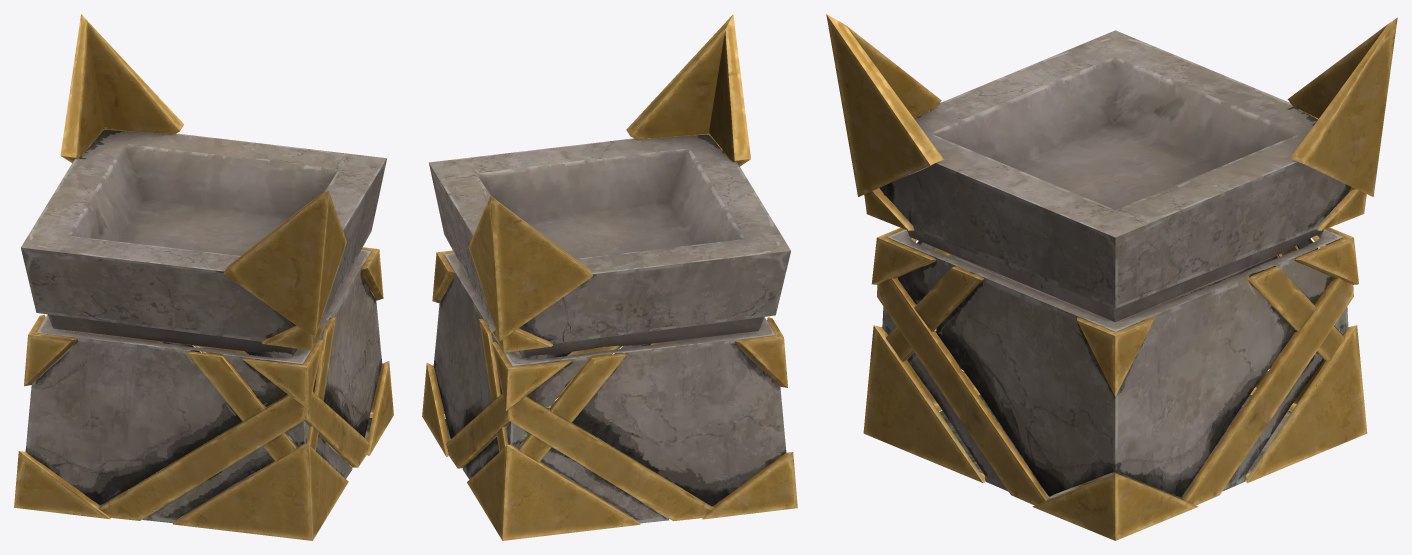
The picture shows the model from 3 angles, left to right: view 1: azimuth 30°, elevation 25°; view 2: azimuth 150°, elevation 25°; view 3: azimuth 270°, elevation 25°; orthographic projection. The views are drawn at different scales.
Parts seen in each view (by area): view 1: SM_Light_Source_01_LOD0; view 2: SM_Light_Source_01_LOD0; view 3: SM_Light_Source_01_LOD0.
Part boxes in pixels (x1,y1,x2,y2): SM_Light_Source_01_LOD0: [14, 14, 393, 540]; SM_Light_Source_01_LOD0: [422, 14, 797, 540]; SM_Light_Source_01_LOD0: [826, 14, 1397, 540].
Size of the model in its own units: 0.8502 by 0.7757 by 0.9556.
1 material, 1 textured.
